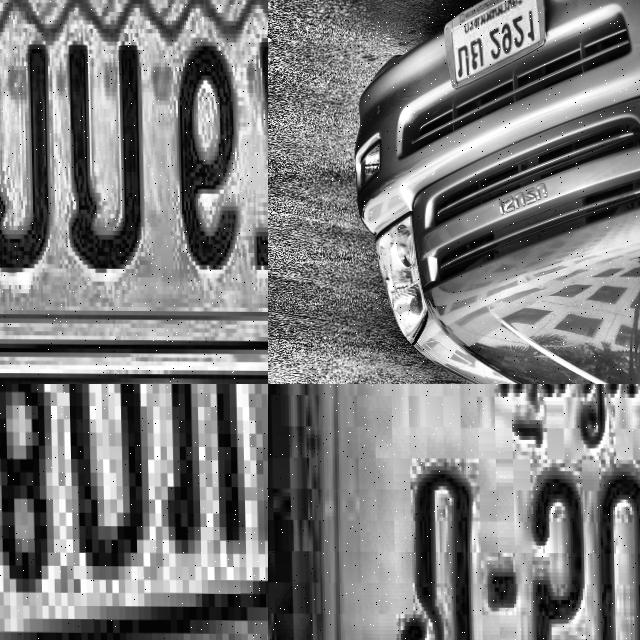license-plate: (0, 0, 268, 384), (303, 384, 640, 640), (0, 384, 268, 640), (443, 0, 546, 93)
